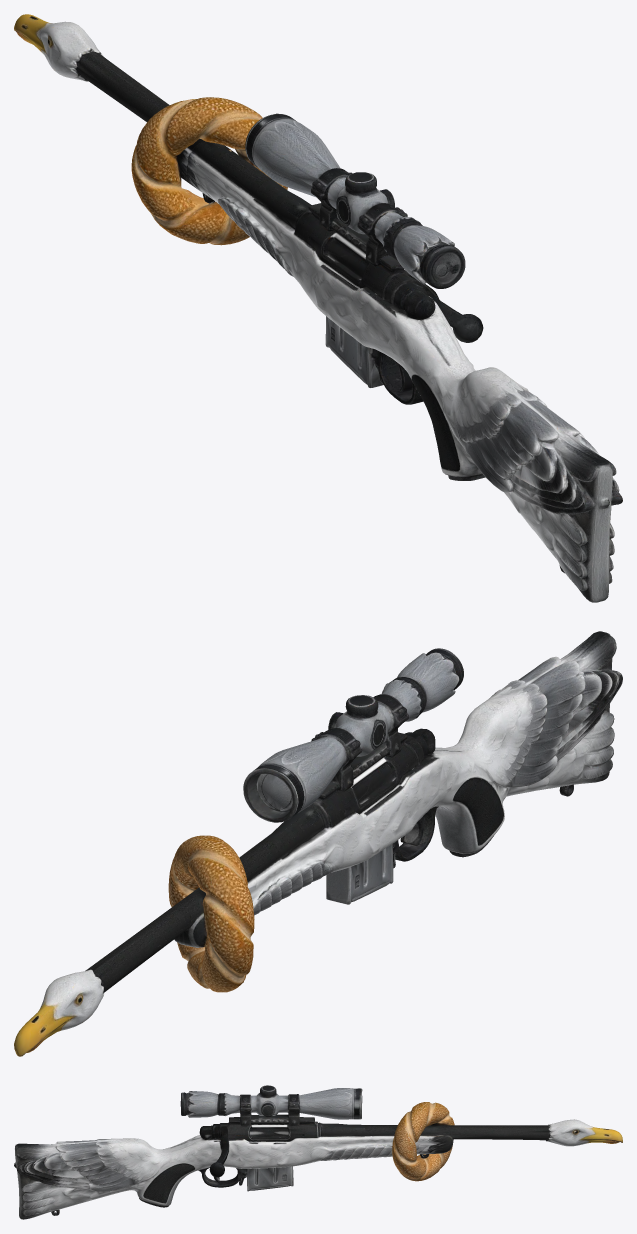
File: k308_marti.glb
3 renders of one model, top to bottom at view 1: azimuth 30°, elevation 25°; view 2: azimuth 150°, elevation 25°; view 3: azimuth 270°, elevation 25°, orthographic. The views are drawn at different scales.
Parts seen in each view (by area): view 1: govde; view 2: govde; view 3: govde.
Boxes of the visible parts, bbox=[...] form: govde: bbox=[14, 14, 622, 602]; govde: bbox=[14, 631, 622, 1056]; govde: bbox=[14, 1085, 622, 1219].
Size of the model in its own units: 0.1272 by 0.2373 by 1.01.
1 material, 1 textured.
